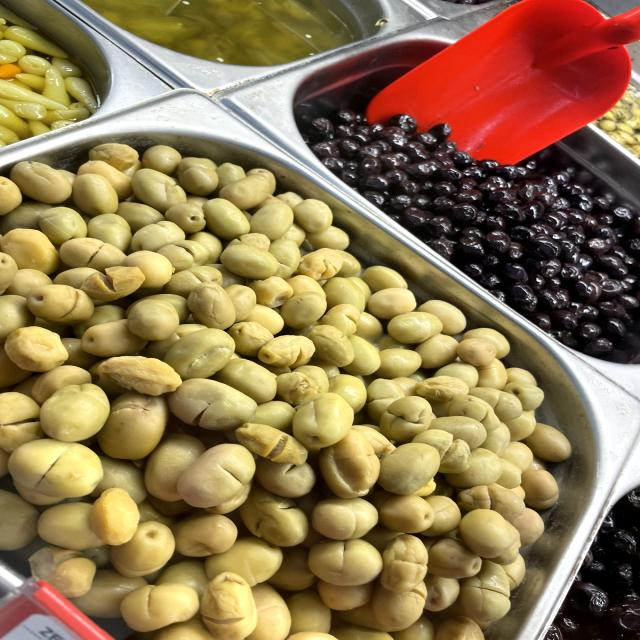olive: (460, 168, 632, 270)
